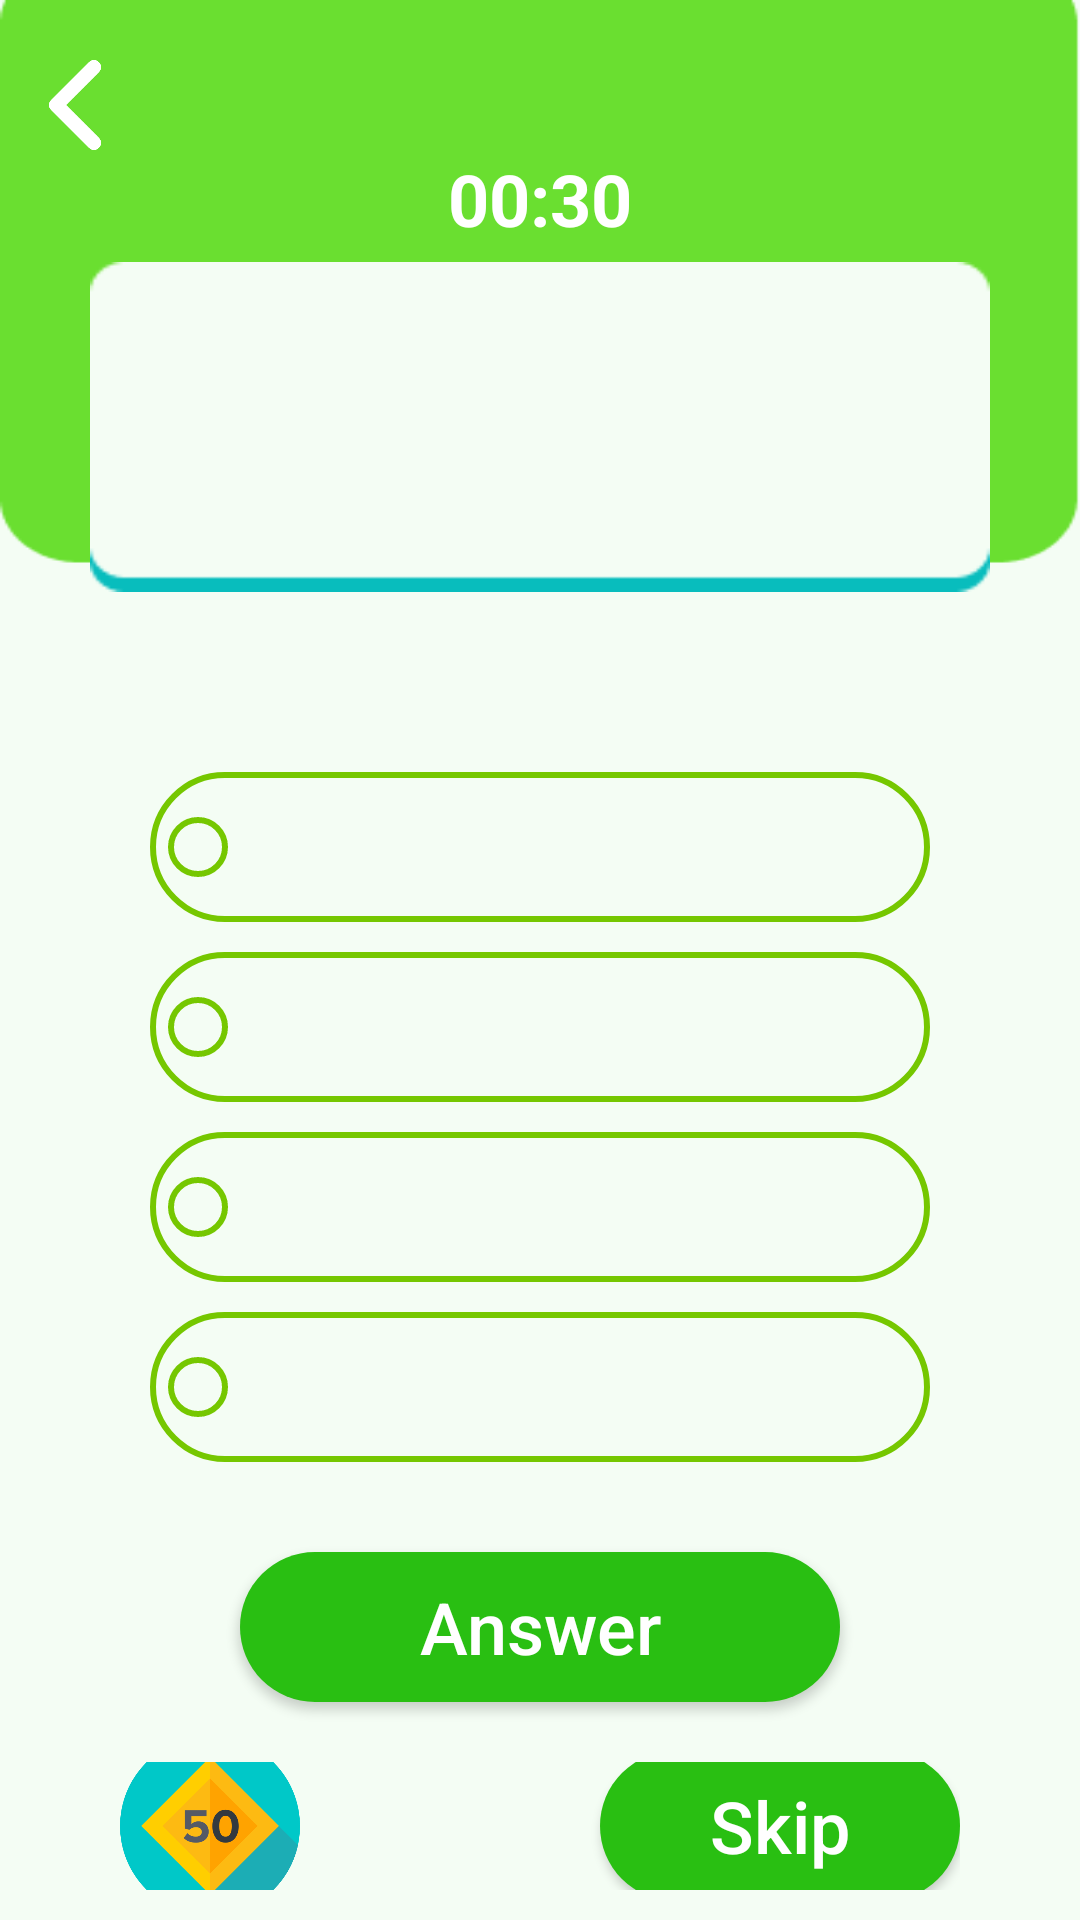

Icons on this 1080 x 1920 Android screen, each with the point to tap as (x,y):
go back: (75,105)
